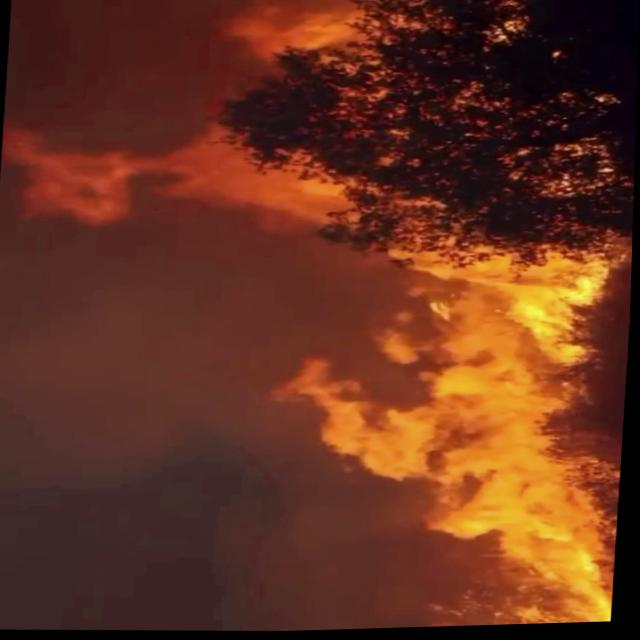fire: (313, 259, 634, 632)
smoke: (0, 321, 245, 637)
